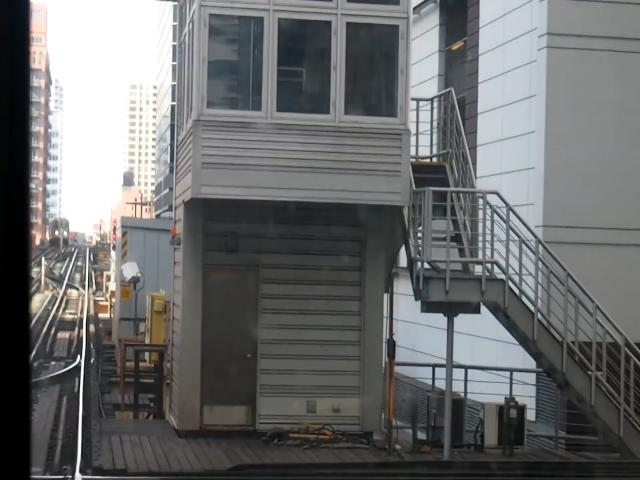signal light: (112, 219, 119, 253)
